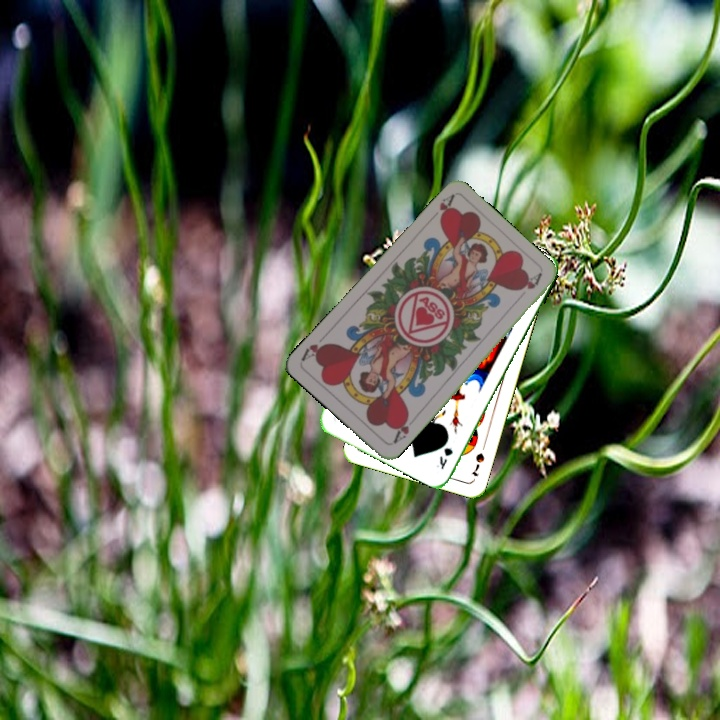GK: (432, 442, 455, 472)
HA: (388, 410, 419, 446), (425, 191, 457, 225)
S7: (468, 449, 487, 479)
